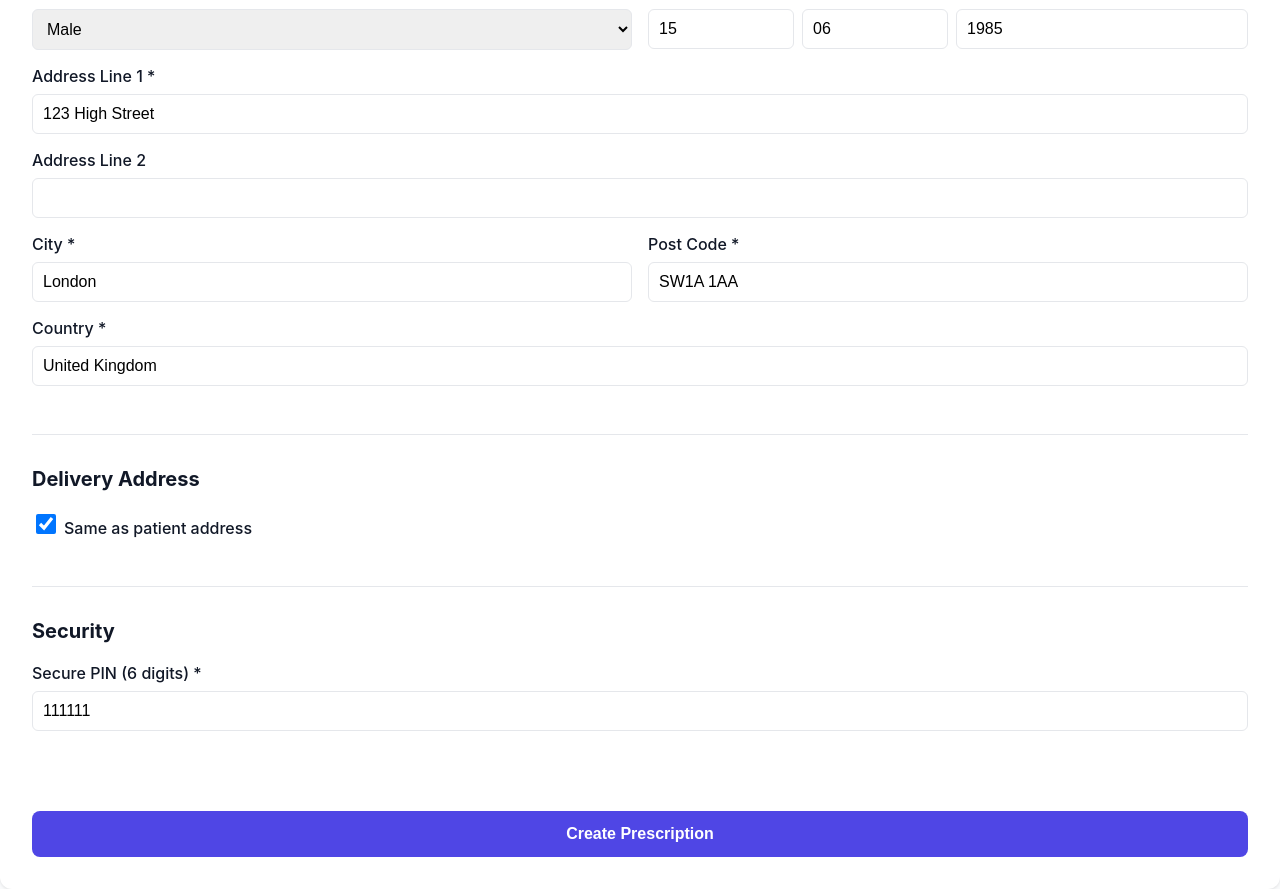
Test: PrescriptionForm › shows delivery address fields when "Same as patient address" is unchecked
(page scrolled)
Step 1. Click the checkbox labelled "Same as patient address" → point(46, 524), box [36, 514, 56, 534]
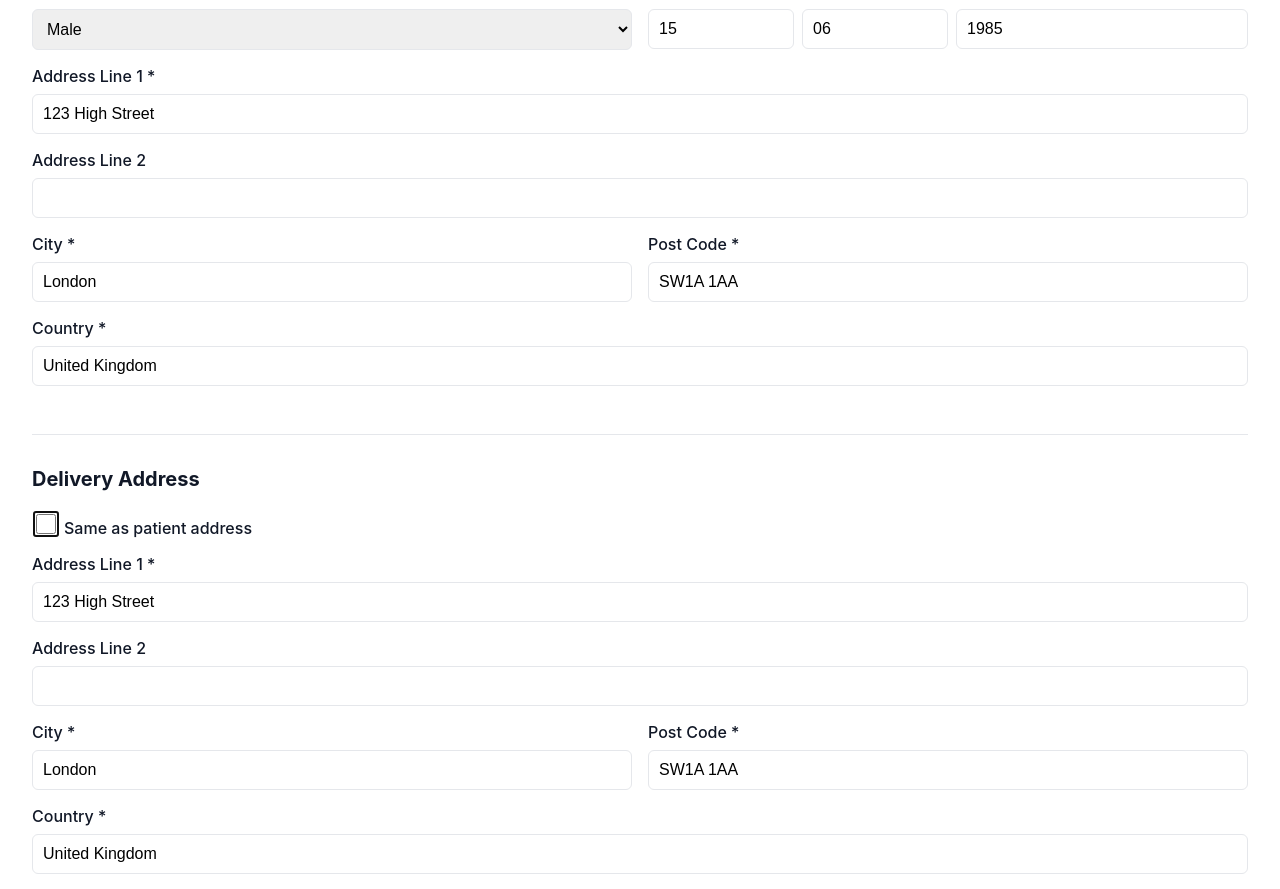
Expected: the checkbox labelled "Same as patient address" is not checked, [36, 514, 56, 534]
Expected: the field labelled "Address Line 1 *" below "Same as patient address" is shown, [32, 582, 1248, 622]
